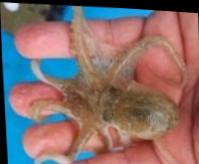Cephalopod: (25, 5, 187, 164)
